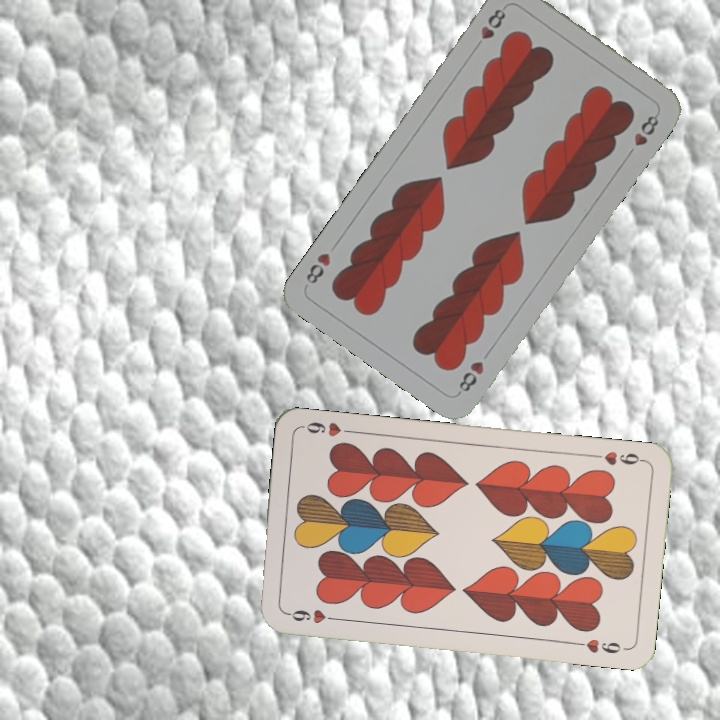H8: (453, 357, 487, 398), (476, 4, 509, 42)
H9: (588, 447, 647, 468), (281, 605, 340, 626)
